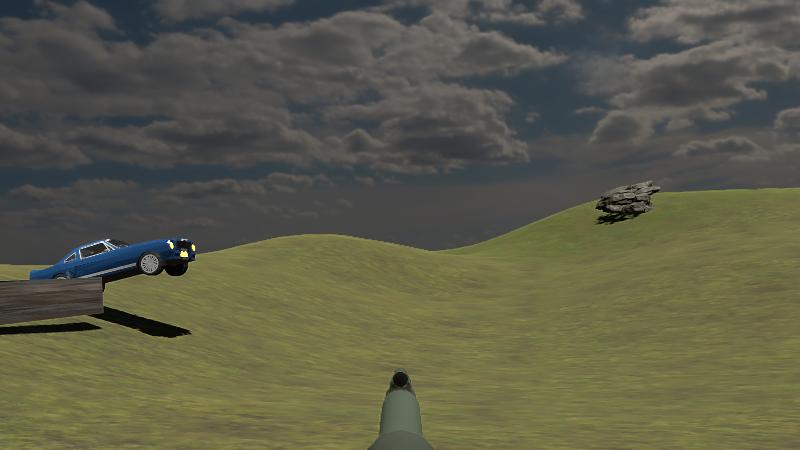car: (26, 233, 198, 294)
